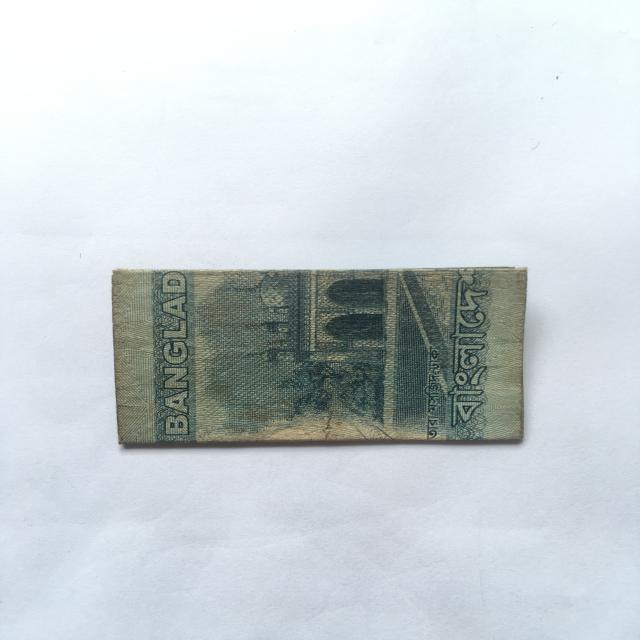Taka: (106, 259, 541, 452)
